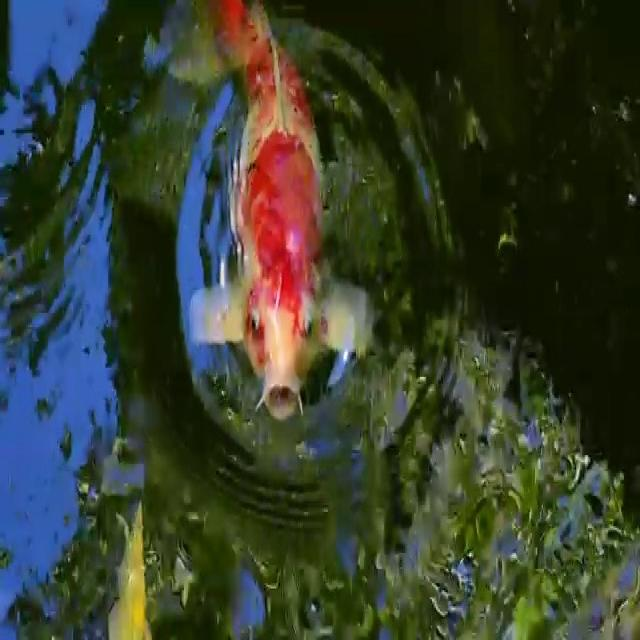fish: (183, 0, 379, 429)
